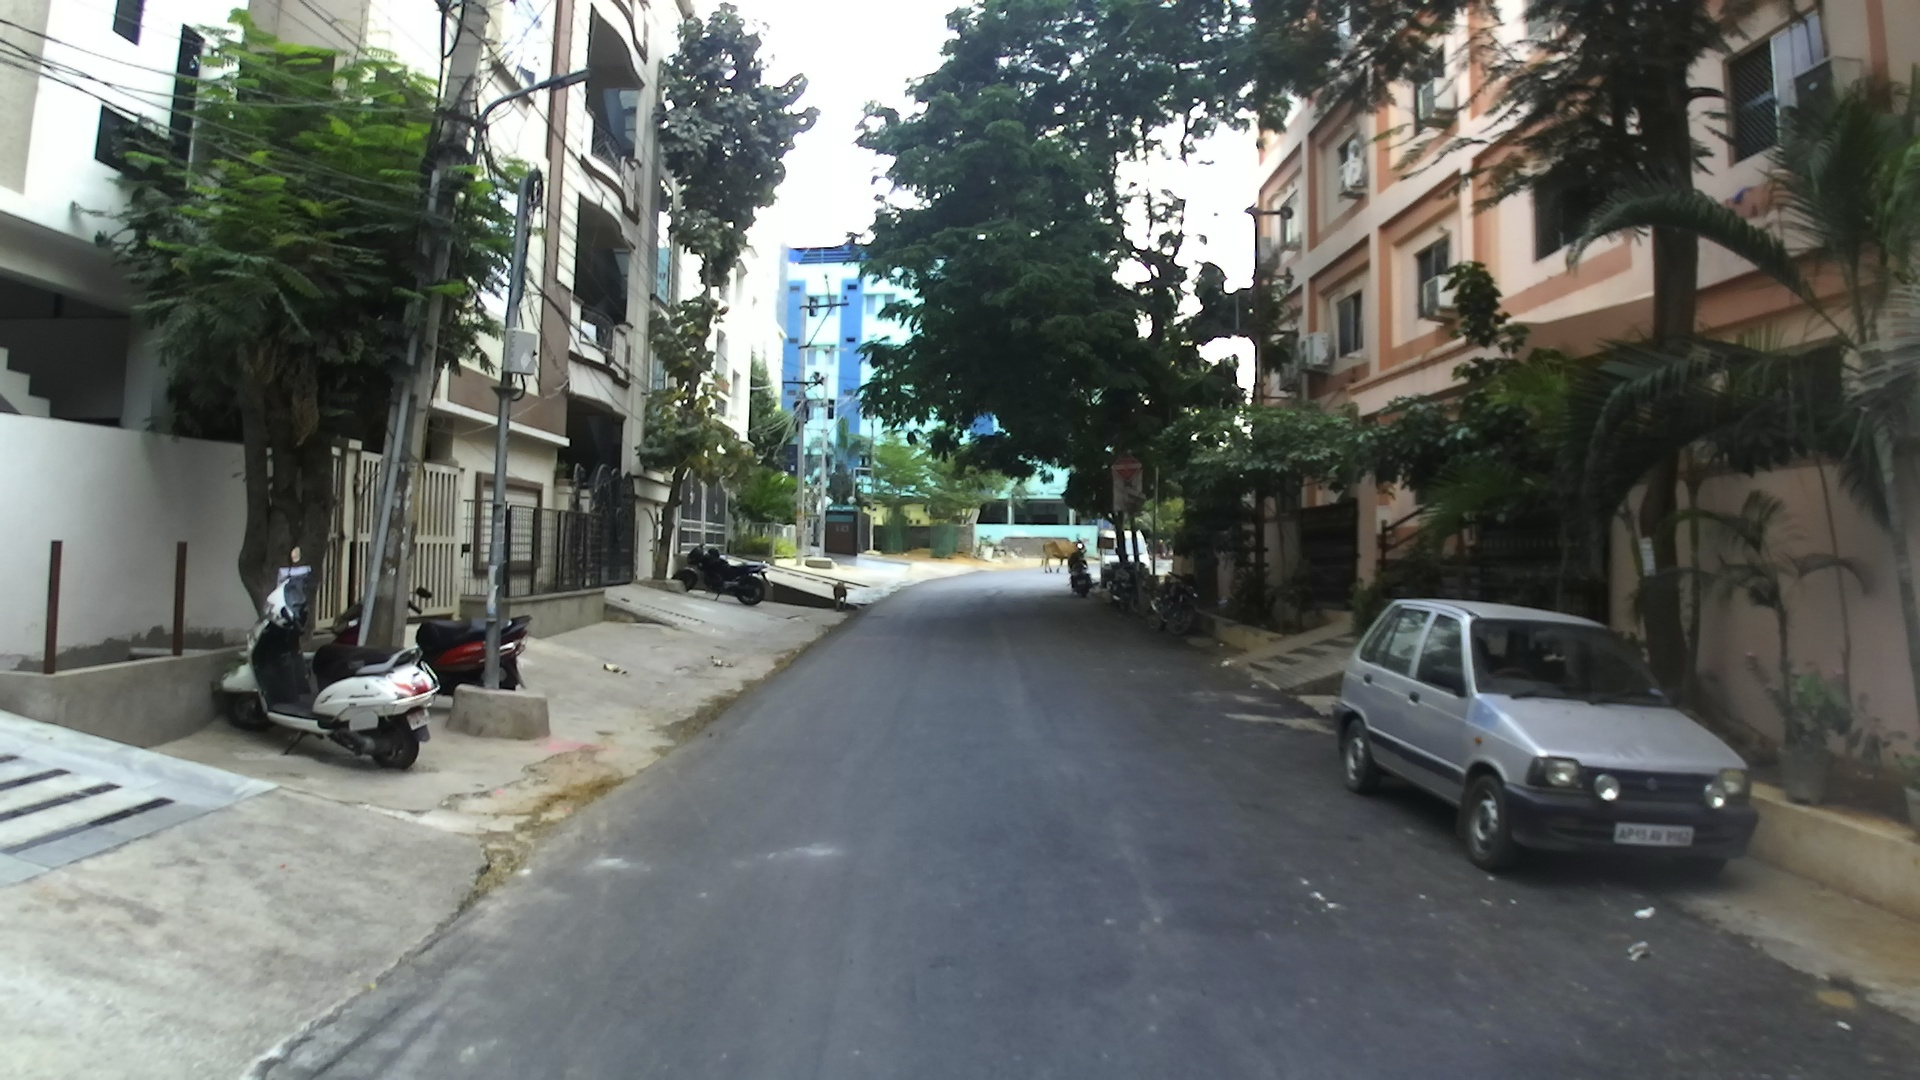vehicle: (1328, 595, 1759, 876)
